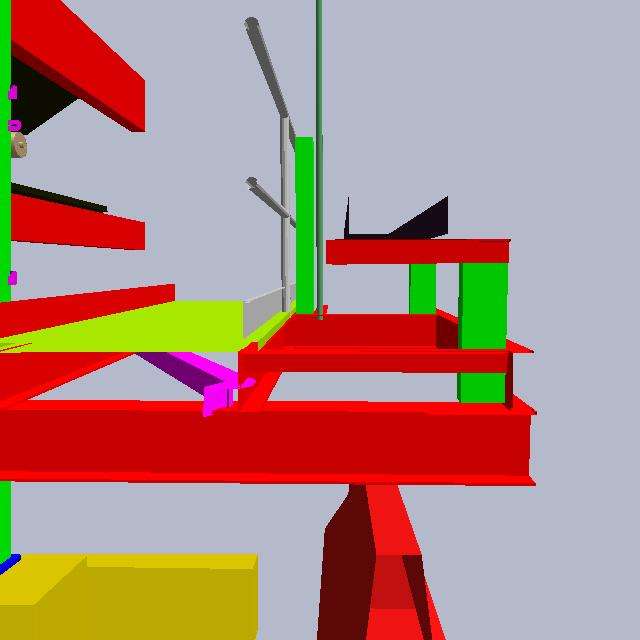Poste: (311, 5, 327, 334)
Soporte: (275, 125, 336, 362)
